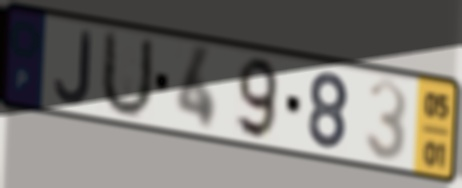3: (362, 75, 410, 166)
4: (172, 41, 220, 135)
8: (307, 69, 349, 152)
9: (233, 55, 281, 142)
J: (52, 28, 94, 108)
U: (96, 27, 156, 121)
